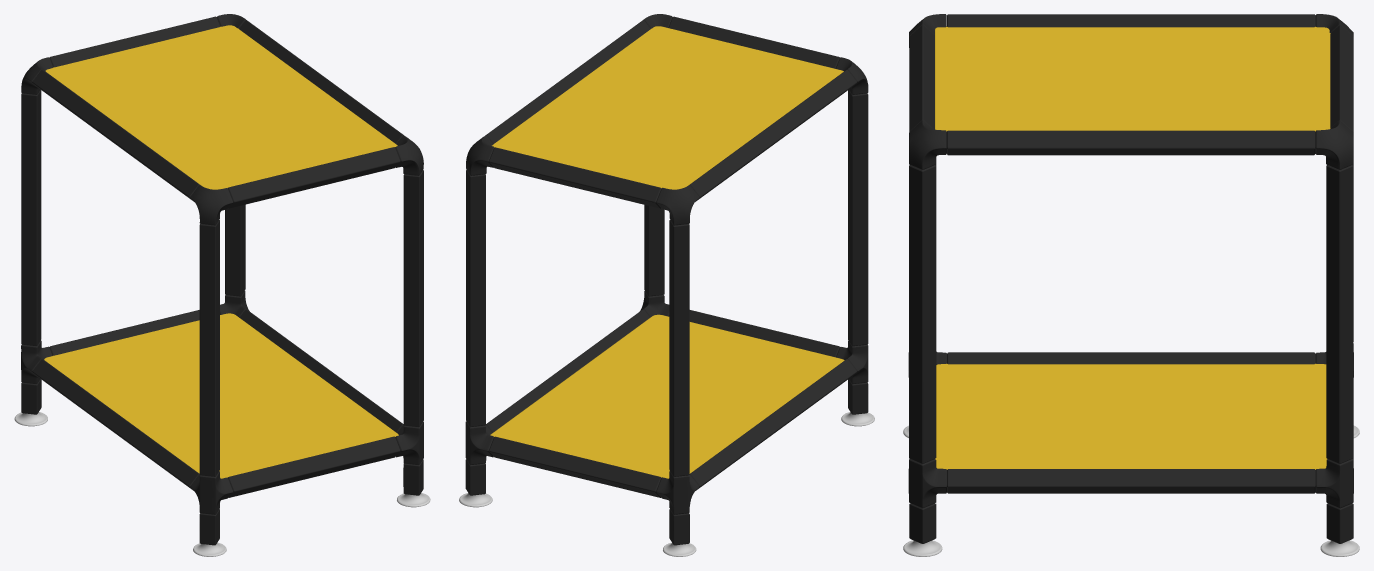
3 renders of one model, left to right at view 1: azimuth 30°, elevation 25°; view 2: azimuth 150°, elevation 25°; view 3: azimuth 270°, elevation 25°, orthographic. The views are drawn at different scales.
Visible parts, largest first — view 1: 229x374x329; view 2: 229x374x329; view 3: 229x374x329.
Boxes of the visible parts, left/top/right/bottom form: 229x374x329: left=14, top=14, right=430, bottom=556; 229x374x329: left=459, top=14, right=874, bottom=556; 229x374x329: left=903, top=14, right=1359, bottom=556.
Bounding box in the file's own units: 0.3188 × 0.4683 × 0.4632.
